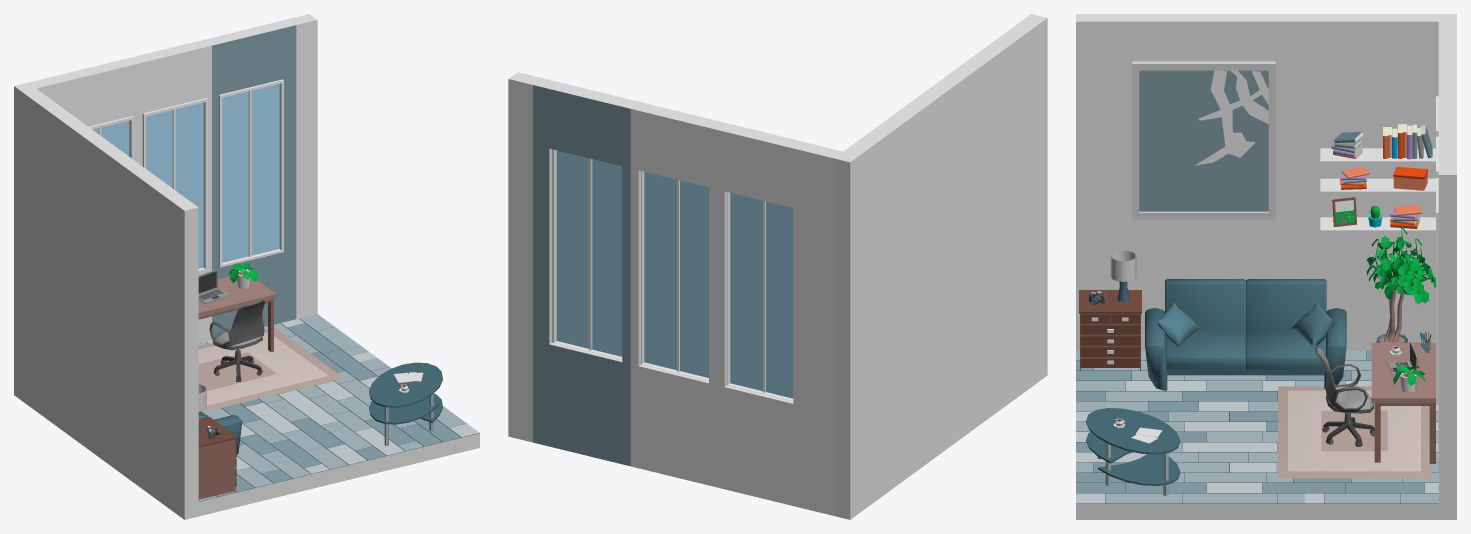
The model's file is room_16.glb.
3 renders of one model, left to right at view 1: azimuth 30°, elevation 25°; view 2: azimuth 150°, elevation 25°; view 3: azimuth 270°, elevation 25°, orthographic. The views are drawn at different scales.
Visible parts, largest first — view 1: Walls_006.022, window_001.003, floor_010.003, Walls_006.025, Walls_006.021, carpet_003.002, Walls_011.008, Walls_116.020, Walls_116.022, coffee_table_008.002, shelf_060.002, office_chair_012.002 (+7 smaller); view 2: Walls_006.022, window_001.003, Walls_006.024, Walls_006.023, Walls_006.025, Walls_006.021, Walls_116.021, Walls_116.020, Walls_116.022, Walls_006.027, Walls_116.023, Walls_006.026; view 3: Walls_006.022, floor_010.003, picture_029.001, sofa_022.002, carpet_003.002, Walls_011.008, Walls_006.021, coffee_table_008.002, shelf_060.002, office_table_023.001, flower_027.004, office_chair_012.002 (+14 smaller).
Boxes of the visible parts, x1,y1,x2,y2 form: Walls_006.022: (14, 82, 198, 519); window_001.003: (88, 79, 283, 272); floor_010.003: (198, 314, 479, 501); Walls_006.025: (63, 40, 211, 126); Walls_006.021: (288, 14, 317, 318); carpet_003.002: (198, 327, 343, 412); Walls_011.008: (198, 318, 479, 516); Walls_116.020: (274, 19, 296, 322); Walls_116.022: (211, 22, 282, 94); coffee_table_008.002: (369, 362, 442, 445); shelf_060.002: (198, 416, 237, 499); office_chair_012.002: (209, 300, 264, 381); Walls_006.022: (834, 14, 1047, 519); window_001.003: (552, 149, 793, 400); Walls_006.024: (630, 364, 793, 505); Walls_006.023: (793, 141, 842, 515); Walls_006.025: (630, 102, 802, 207); Walls_006.021: (508, 72, 541, 442); Walls_116.021: (549, 342, 622, 464); Walls_116.020: (533, 78, 557, 446); Walls_116.022: (549, 82, 630, 166); Walls_006.027: (709, 187, 727, 386); Walls_116.023: (622, 100, 639, 466); Walls_006.026: (630, 168, 641, 365); Walls_006.022: (1076, 14, 1456, 350); floor_010.003: (1076, 350, 1438, 503); picture_029.001: (1132, 61, 1275, 219); sofa_022.002: (1145, 279, 1346, 390); carpet_003.002: (1278, 386, 1431, 478); Walls_011.008: (1076, 350, 1438, 519); Walls_006.021: (1438, 163, 1456, 519); coffee_table_008.002: (1086, 408, 1180, 495); shelf_060.002: (1079, 290, 1141, 370); office_table_023.001: (1371, 342, 1435, 463); flower_027.004: (1366, 227, 1435, 342); office_chair_012.002: (1314, 346, 1374, 446).
Size of the model in its own units: 4.2 by 4.2 by 4.2.
Materials: 1 (1 with a texture image).
